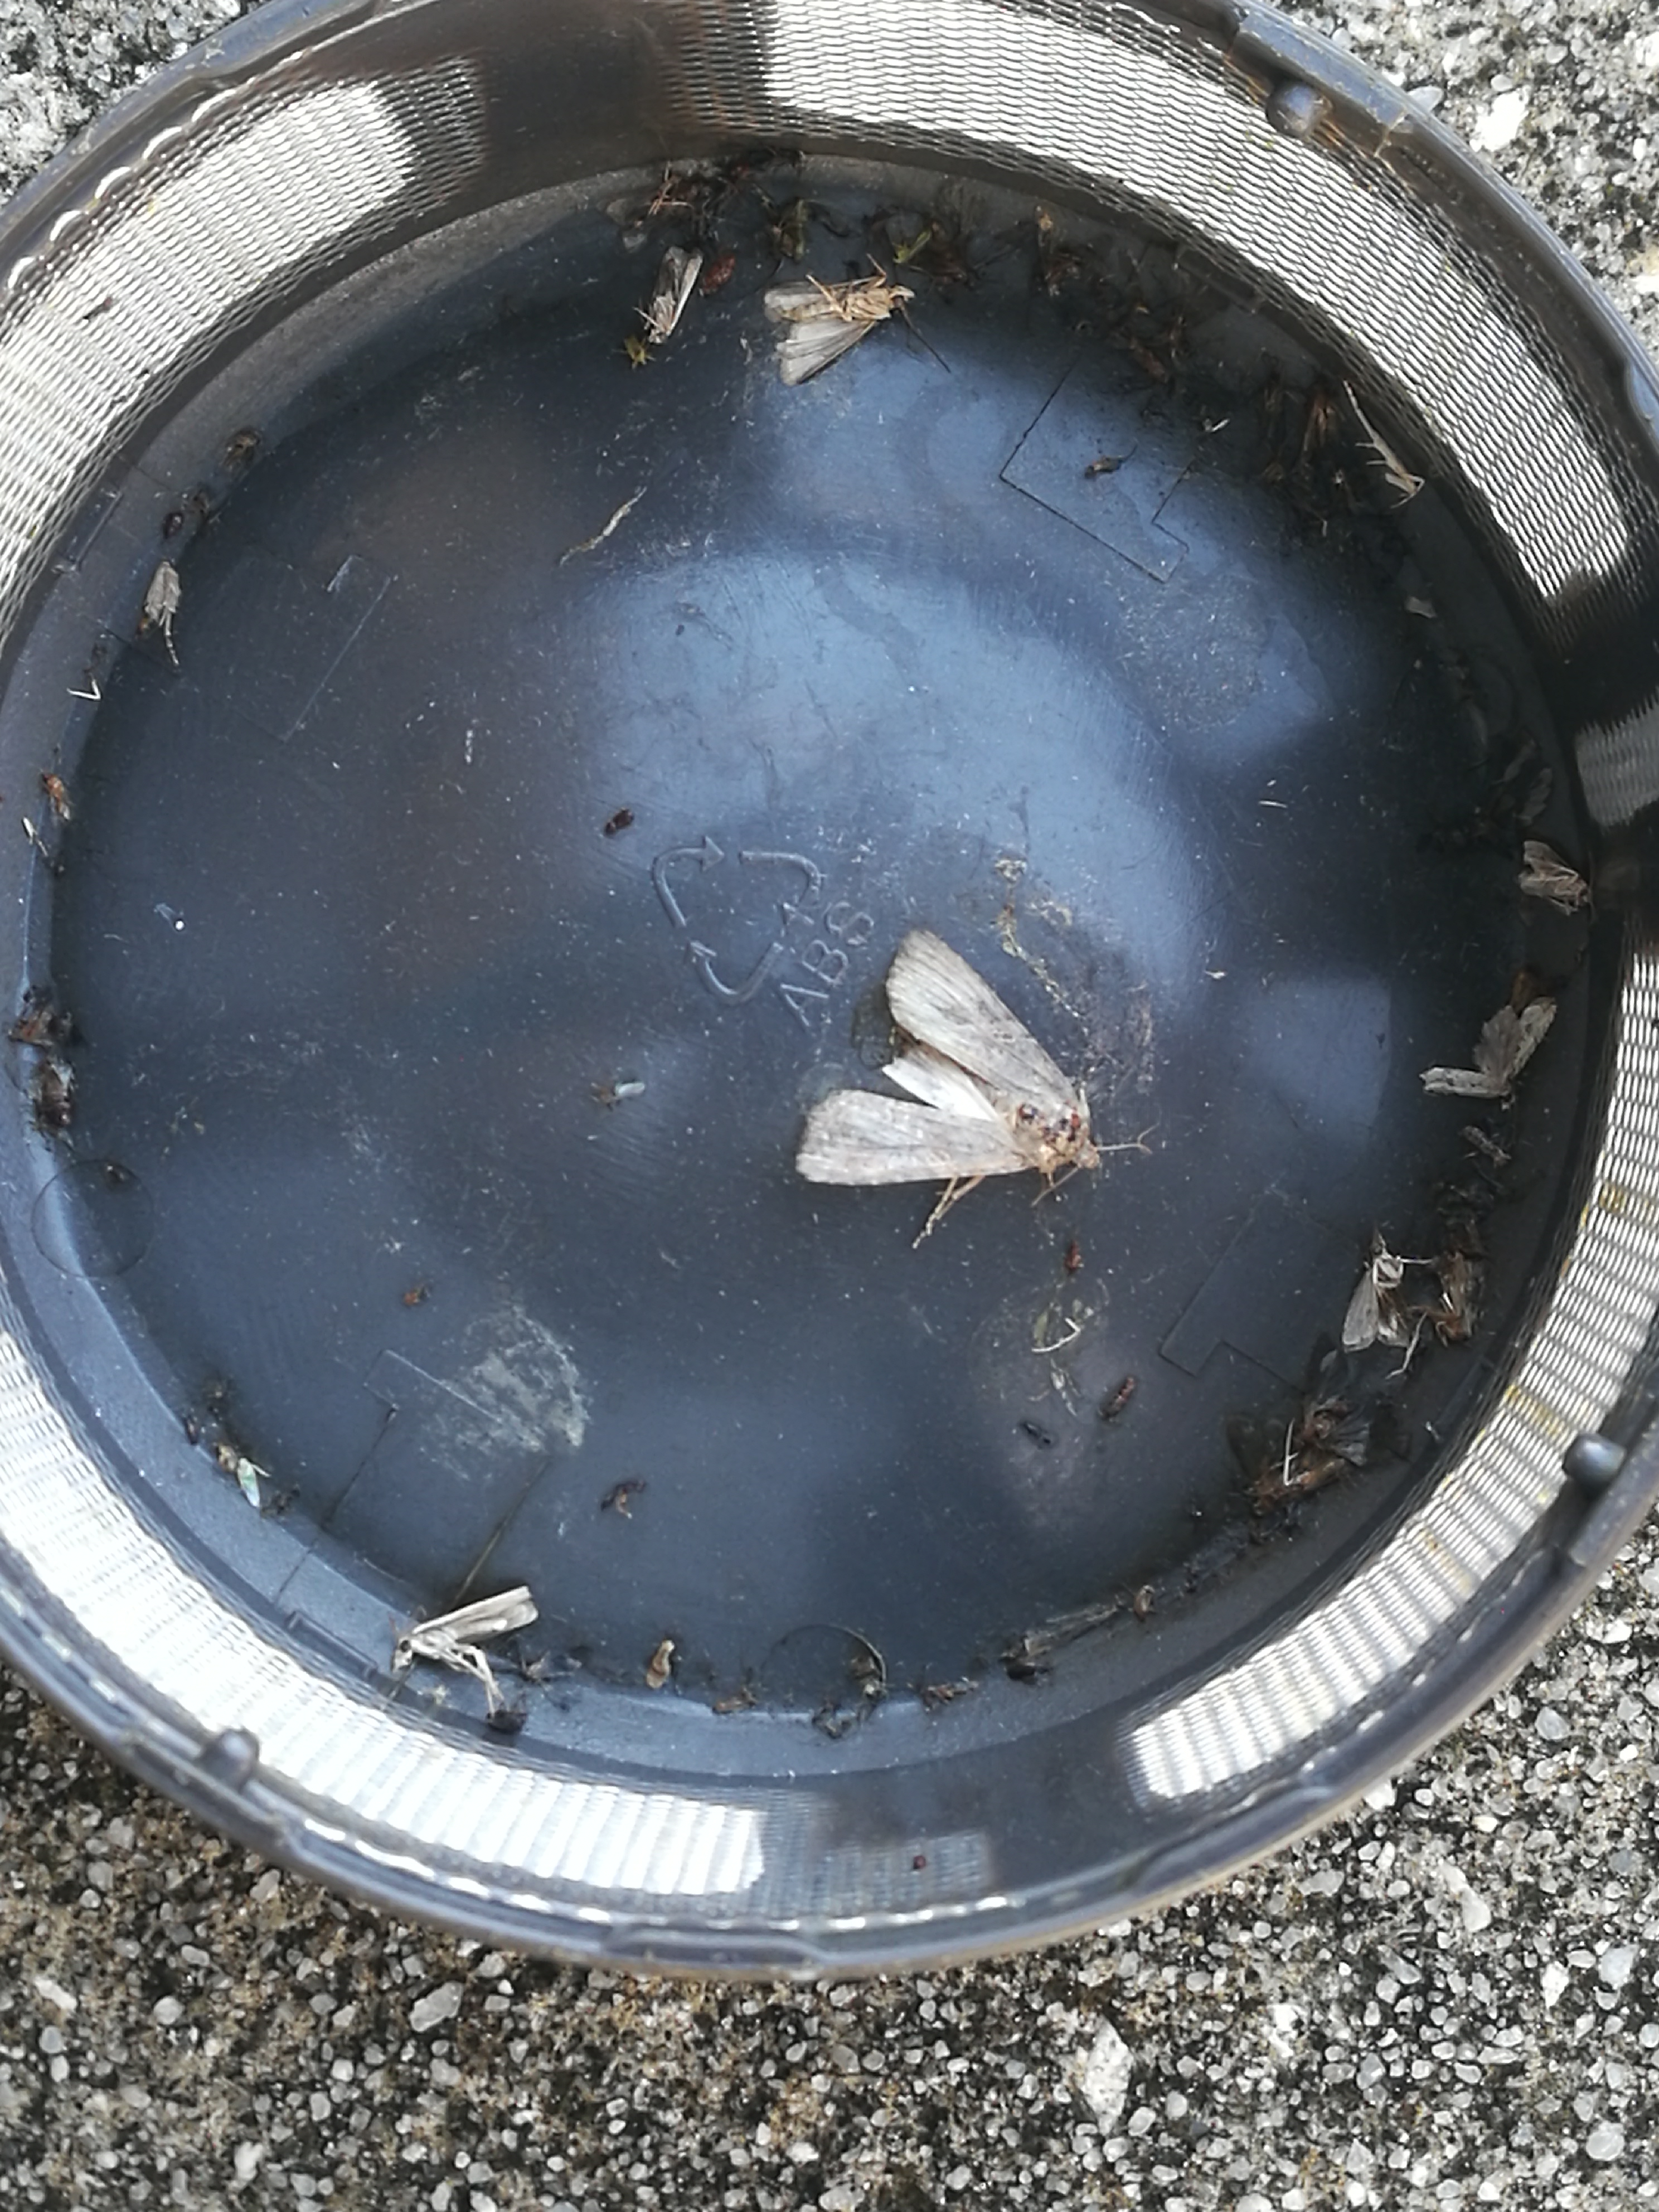mosquito: (394, 1587, 537, 1669), (648, 247, 701, 345)
moth: (795, 928, 1100, 1186), (1420, 996, 1558, 1111), (763, 282, 915, 385), (1229, 1411, 1347, 1517), (1295, 1352, 1399, 1465), (1342, 1224, 1413, 1352), (1518, 840, 1589, 916), (1429, 1252, 1486, 1343)
